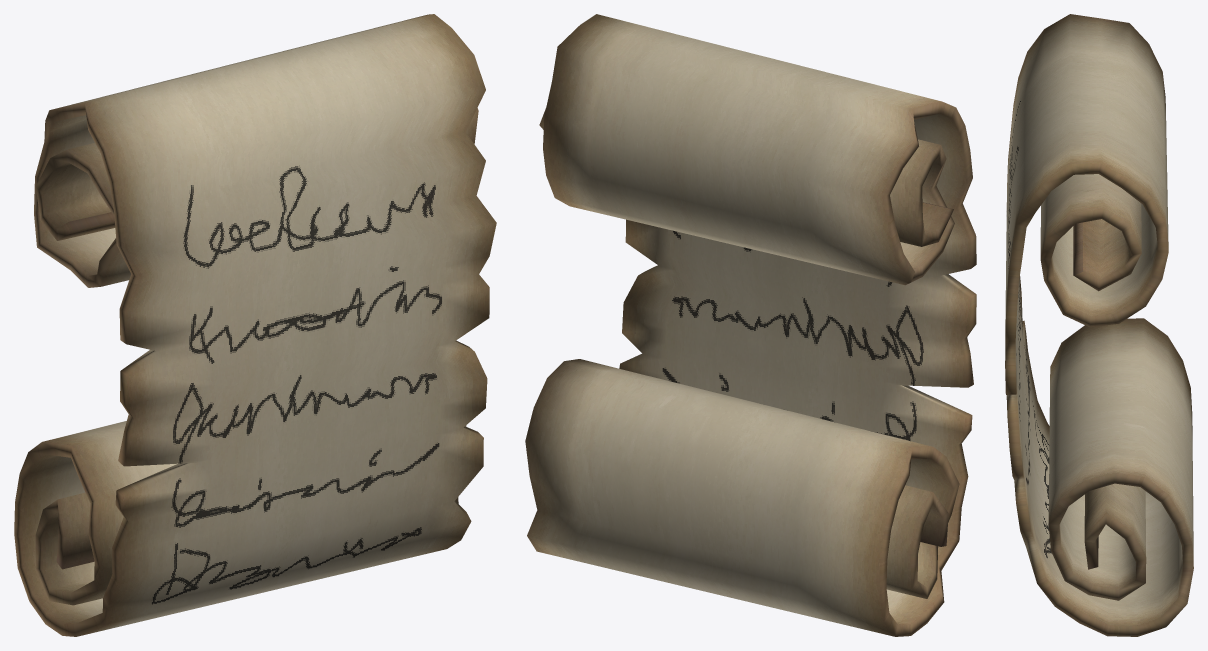
File: scroll2.glb
3 views of the same model, side by side, from view 1: azimuth 30°, elevation 25°; view 2: azimuth 150°, elevation 25°; view 3: azimuth 270°, elevation 25° (orthographic). The views are drawn at different scales.
Parts seen in each view (by area): view 1: Cube; view 2: Cube; view 3: Cube.
Part boxes in pixels (box(x1,y1,x2,y2)): Cube: box(14, 14, 496, 636); Cube: box(525, 14, 976, 636); Cube: box(1005, 14, 1193, 636).
Size of the model in its own units: 1.31 by 1.7 by 0.6182.
Materials: 1 (1 with a texture image).
